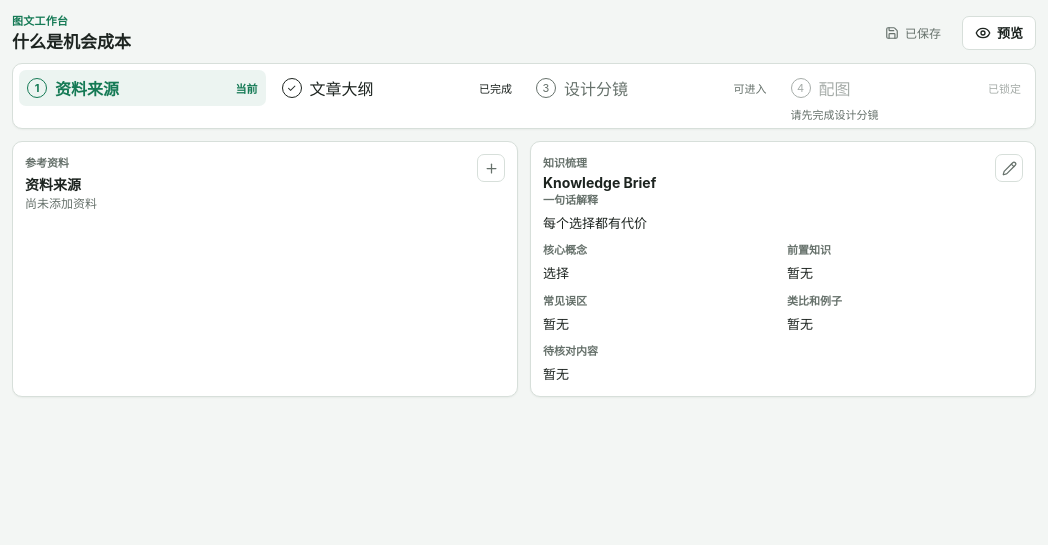
Test case: ArticleWorkspace › invalidates a confirmed outline and body when a source changes
Click the button named "添加资料". click: (491, 168)
box: [477,154,505,182]
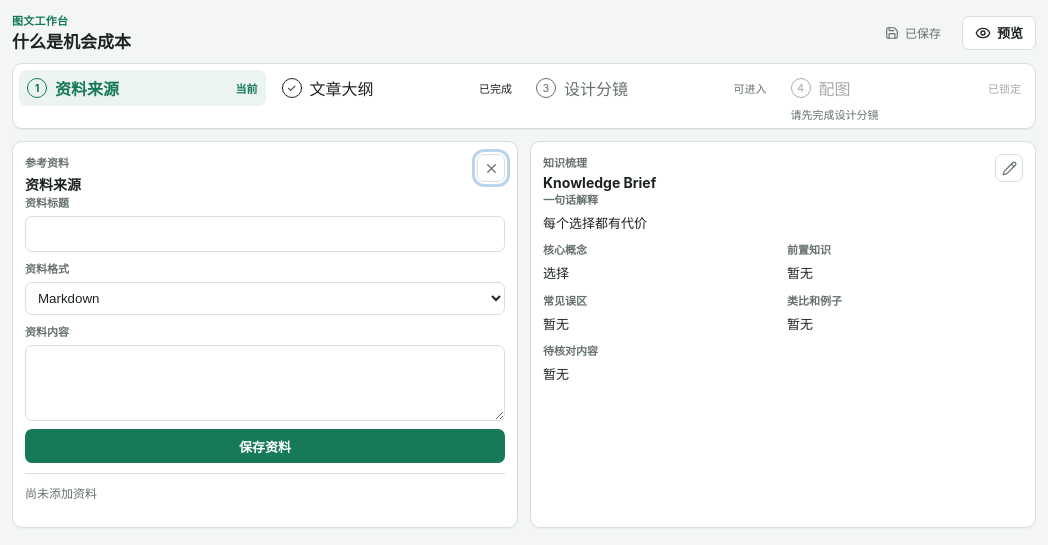
Type "课堂笔记" into the field labelled "资料标题". click: (265, 234)
box: [25,216,505,252]
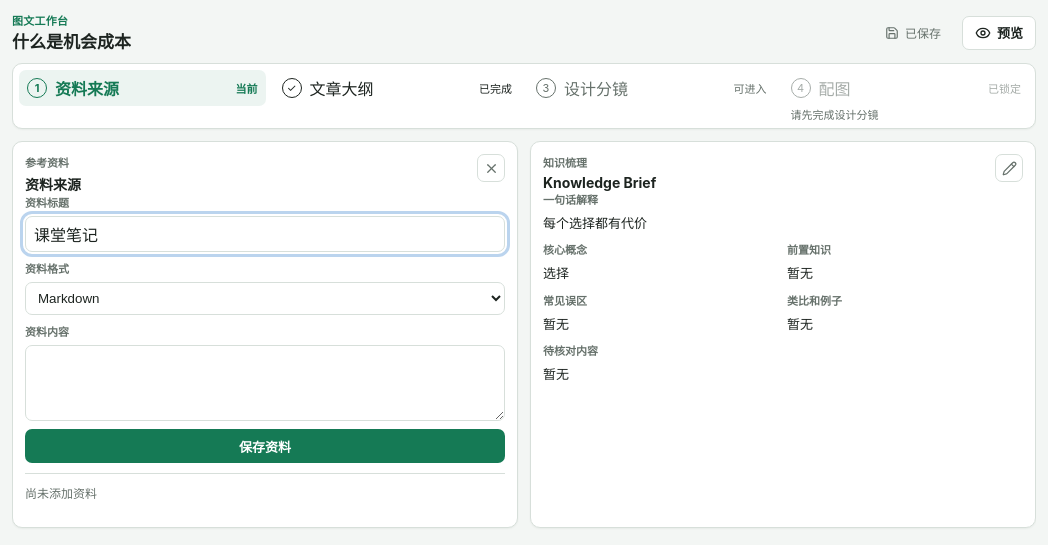
Type "新资料" into the text box labelled "资料内容". click: (265, 383)
box: [25,345,505,421]
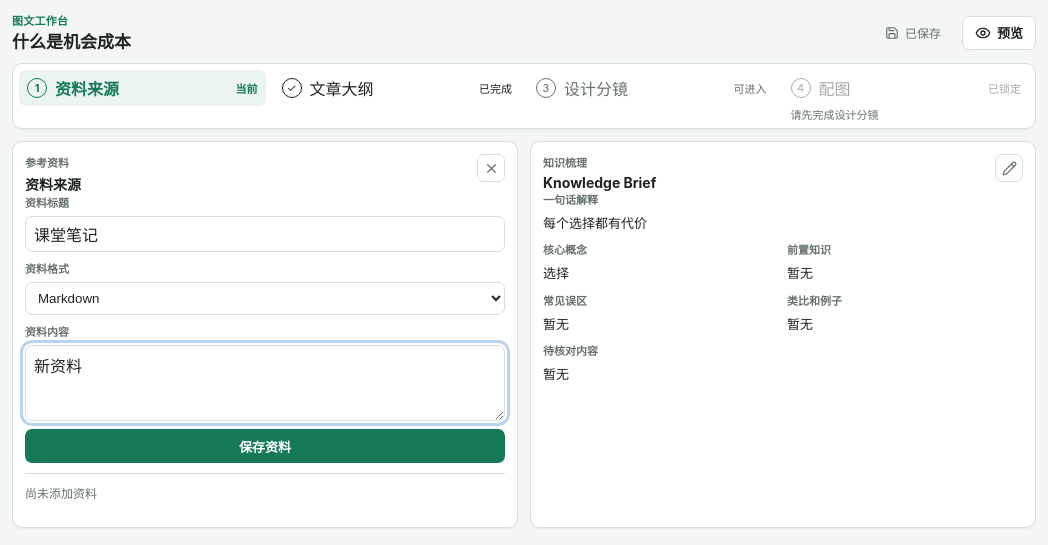
Click the button "保存资料". click: (265, 446)
box: [25,429,505,463]
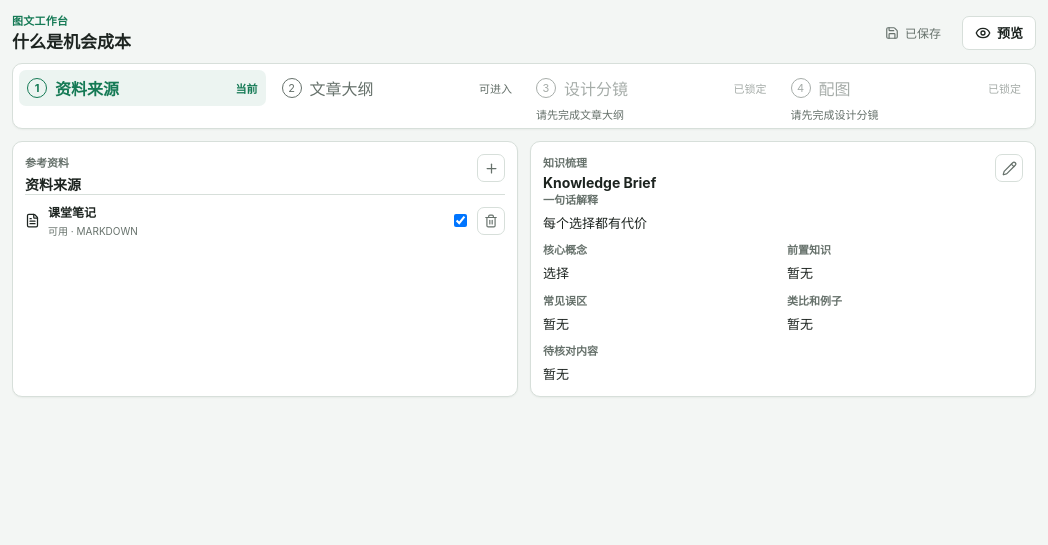
Check: the button "4 配图 已锁定" is disabled, box [782,70,1029,106]
Check: the button "3 设计分镜 已锁定" is disabled, box [528,70,774,106]
